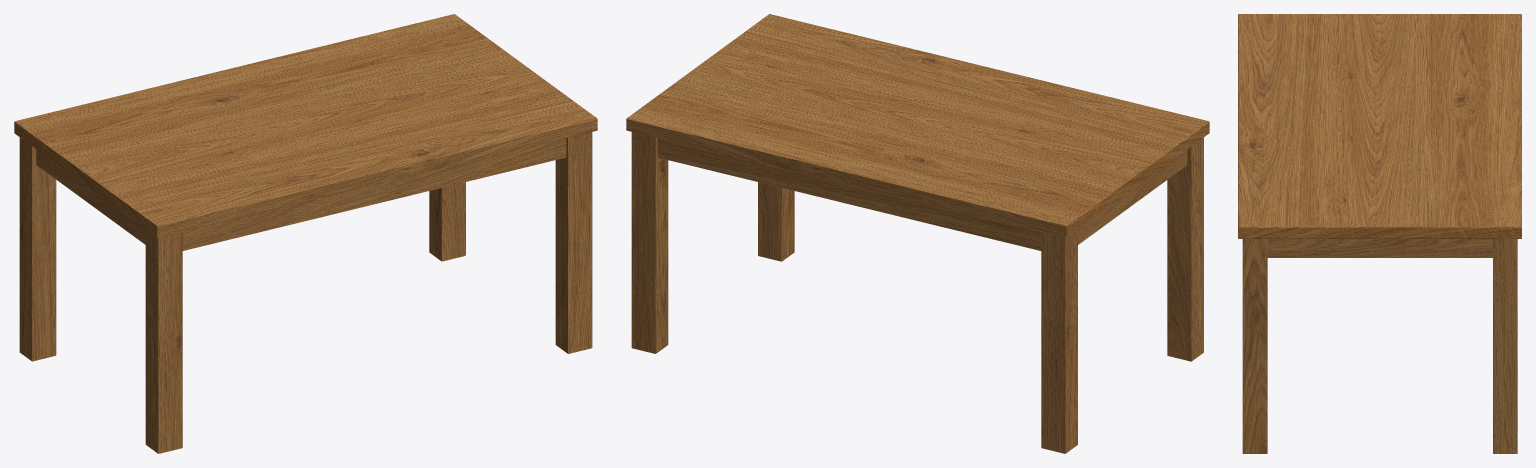
The model's file is table.glb.
3 renders of one model, left to right at view 1: azimuth 30°, elevation 25°; view 2: azimuth 150°, elevation 25°; view 3: azimuth 270°, elevation 25°, orthographic.
Visible parts, largest first — view 1: table; view 2: table; view 3: table.
Part boxes in pixels (bbox=[...]): table: bbox=[14, 14, 597, 453]; table: bbox=[626, 14, 1209, 453]; table: bbox=[1238, 14, 1521, 453].
Size of the model in its own units: 1.6 by 0.8 by 0.9.
Materials: 2 (2 with a texture image).
